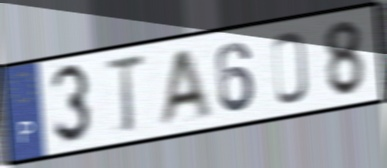0: (271, 29, 310, 108)
3: (47, 61, 97, 148)
6: (214, 40, 258, 114)
8: (322, 19, 368, 99)
A: (155, 45, 215, 130)
T: (101, 51, 148, 137)
